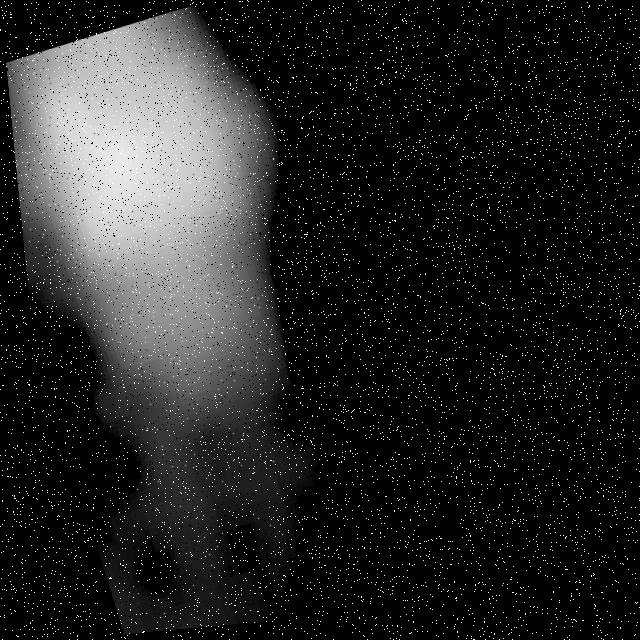person: (2, 1, 361, 478)
